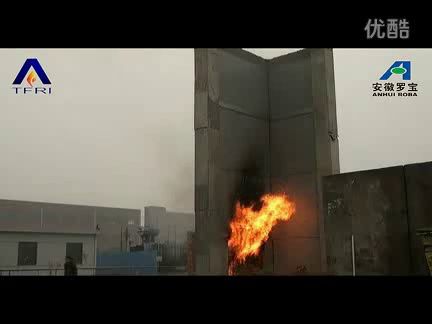fire: (222, 190, 298, 273)
